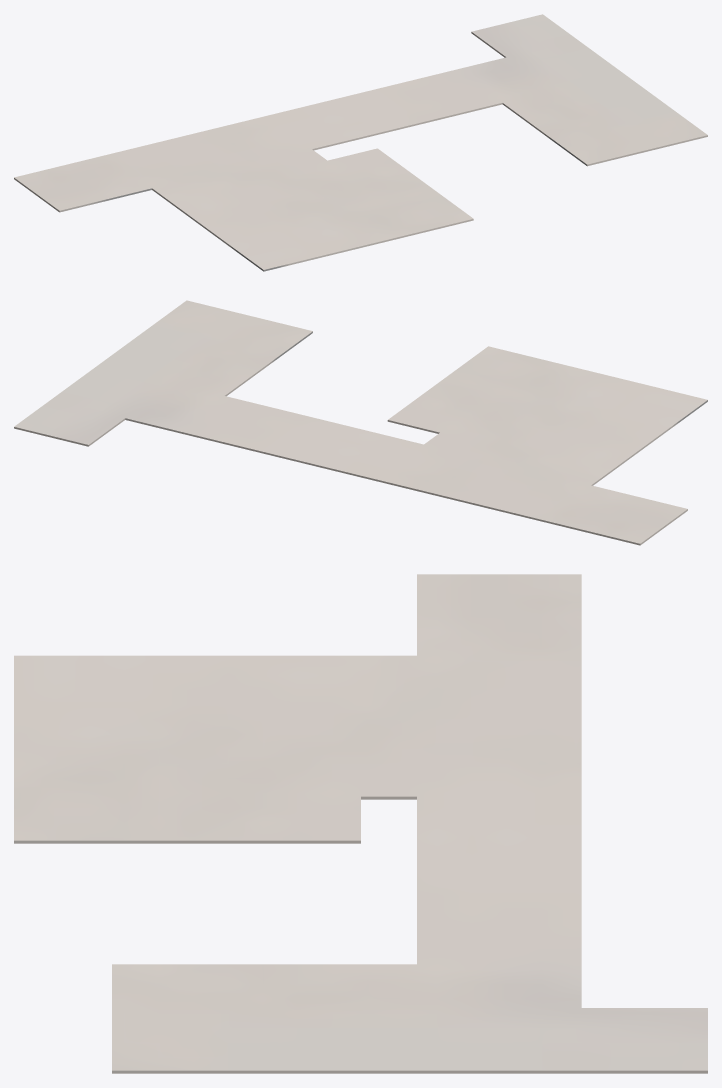
The model's file is Suelo_base.fbx.
3 renders of one model, top to bottom at view 1: azimuth 30°, elevation 25°; view 2: azimuth 150°, elevation 25°; view 3: azimuth 270°, elevation 25°, orthographic. The views are drawn at different scales.
Visible parts, largest first — view 1: Cube.034; view 2: Cube.034; view 3: Cube.034.
Boxes of the visible parts, bbox=[...] form: Cube.034: bbox=[14, 14, 707, 271]; Cube.034: bbox=[14, 300, 707, 545]; Cube.034: bbox=[14, 574, 707, 1073].
Bounding box in the file's own units: 2720 × 7.79 × 1606.
